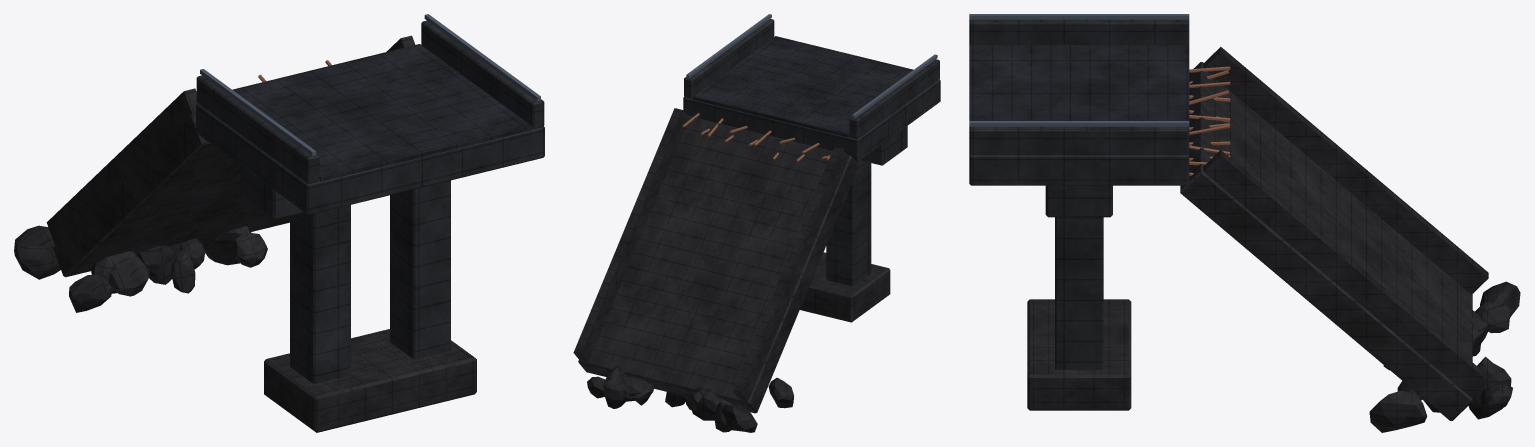
Rendered from overpass_broken.glb.
3 views of the same model, side by side, from view 1: azimuth 30°, elevation 25°; view 2: azimuth 150°, elevation 25°; view 3: azimuth 270°, elevation 25° (orthographic). The views are drawn at different scales.
Visible parts, largest first — view 1: OverpassBroken; view 2: OverpassBroken; view 3: OverpassBroken.
Boxes of the visible parts, left/top/right/bottom form: OverpassBroken: left=14, top=14, right=544, bottom=432; OverpassBroken: left=573, top=14, right=940, bottom=432; OverpassBroken: left=969, top=14, right=1520, bottom=432.
Bounding box in the file's own units: 9.85 × 11.68 × 18.06.
Materials: 5 (3 with a texture image).
